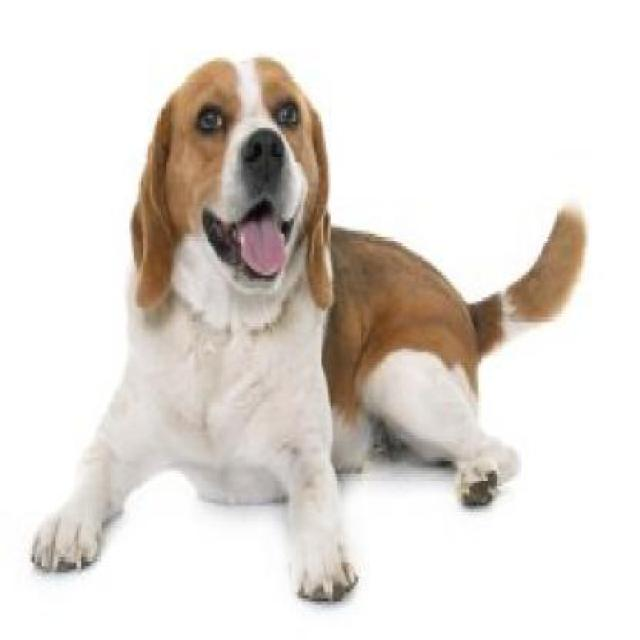Dog: (28, 51, 598, 611)
